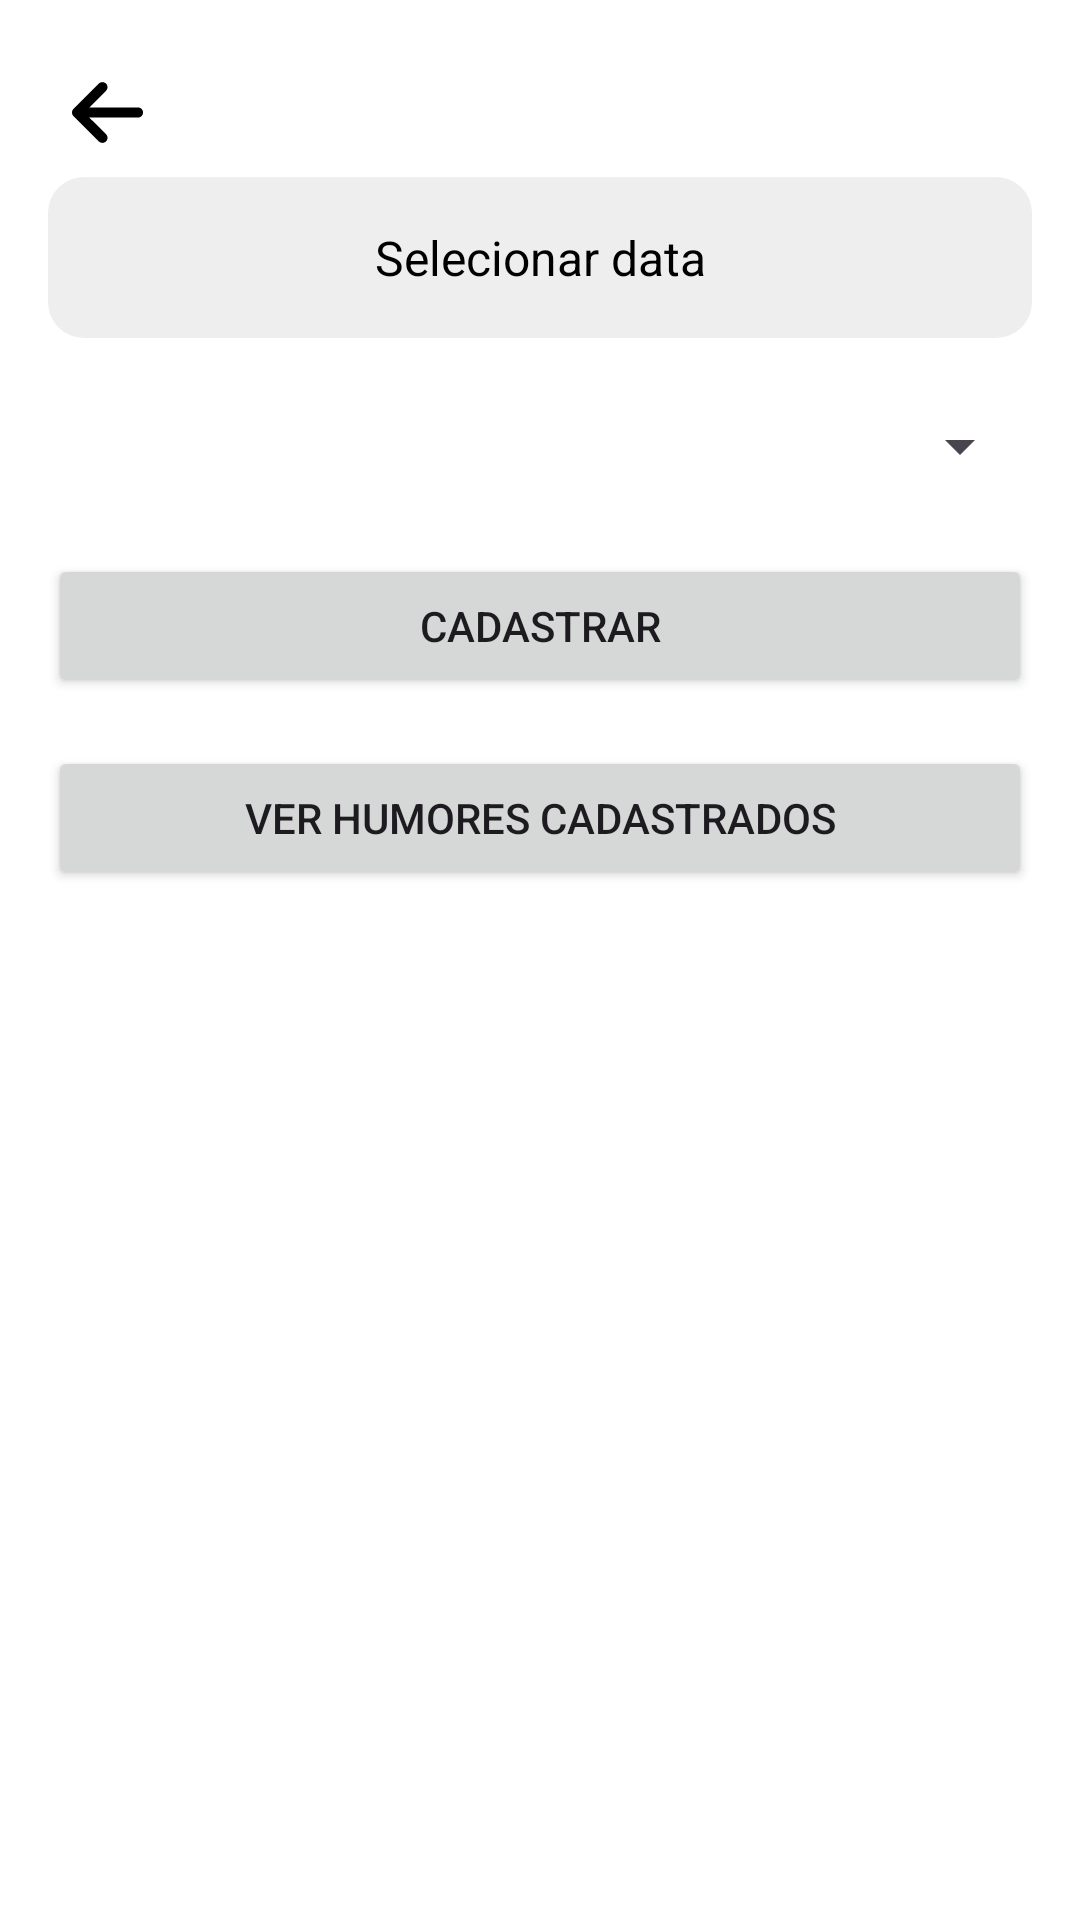

Screen size 1080×1920. Icon name, then its center in pixels as [x,y]:
Voltar: [107,112]
